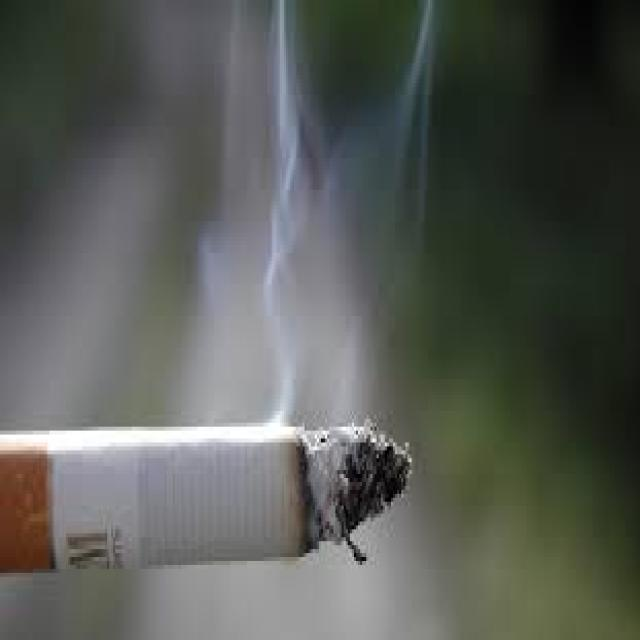rokok: (0, 418, 430, 578)
